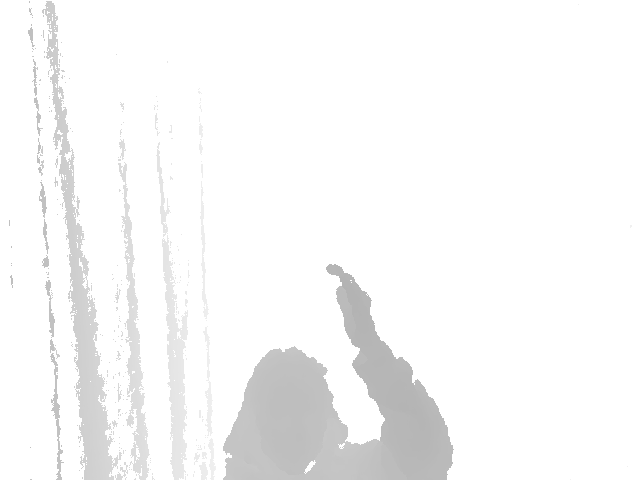hand: (322, 261, 385, 351)
head: (220, 344, 348, 476)
person: (220, 263, 456, 480)
